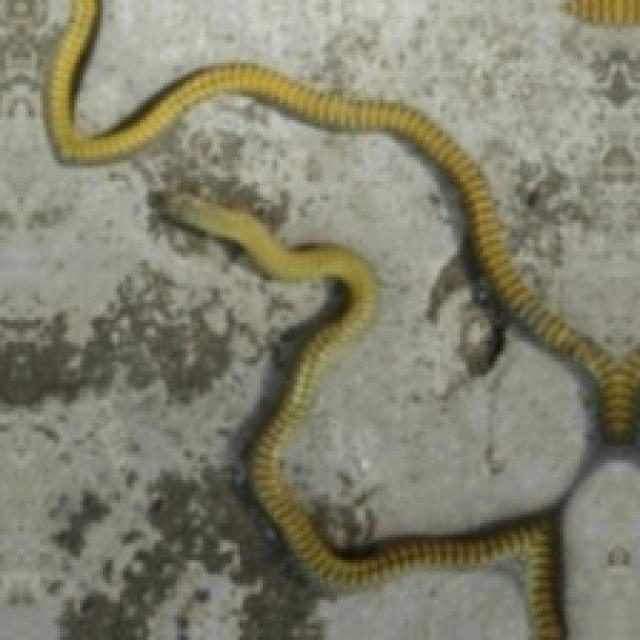gervais worm snake: (49, 0, 637, 437), (163, 194, 559, 640)
